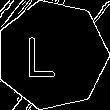L_N: (36, 30, 68, 80)
